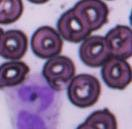N: (5, 73, 62, 128)
